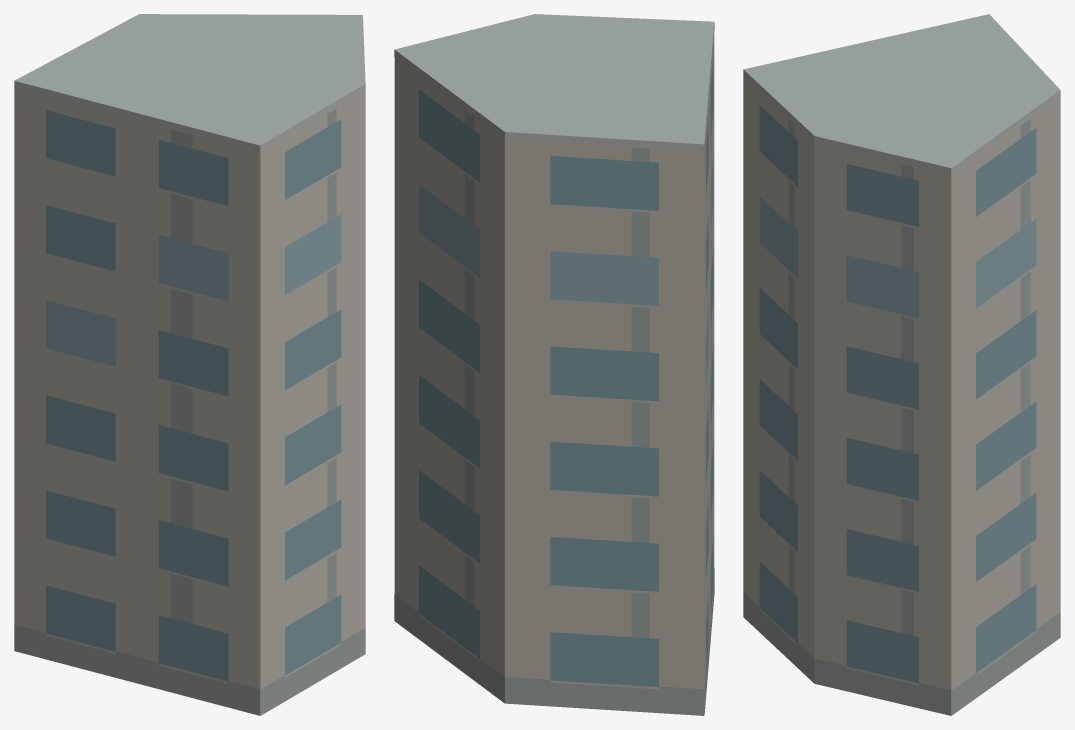
File: survey-upis-32761498.glb
3 renders of one model, left to right at view 1: azimuth 30°, elevation 25°; view 2: azimuth 150°, elevation 25°; view 3: azimuth 270°, elevation 25°, orthographic. The views are drawn at different scales.
Visible parts, largest first — view 1: survey-upis-32761498.tmp; view 2: survey-upis-32761498.tmp; view 3: survey-upis-32761498.tmp.
Part boxes in pixels (bbox=[...]): survey-upis-32761498.tmp: bbox=[14, 14, 365, 715]; survey-upis-32761498.tmp: bbox=[394, 14, 714, 715]; survey-upis-32761498.tmp: bbox=[743, 14, 1060, 715].
Bounding box in the file's own units: 11.05 × 18.3 × 9.61.
